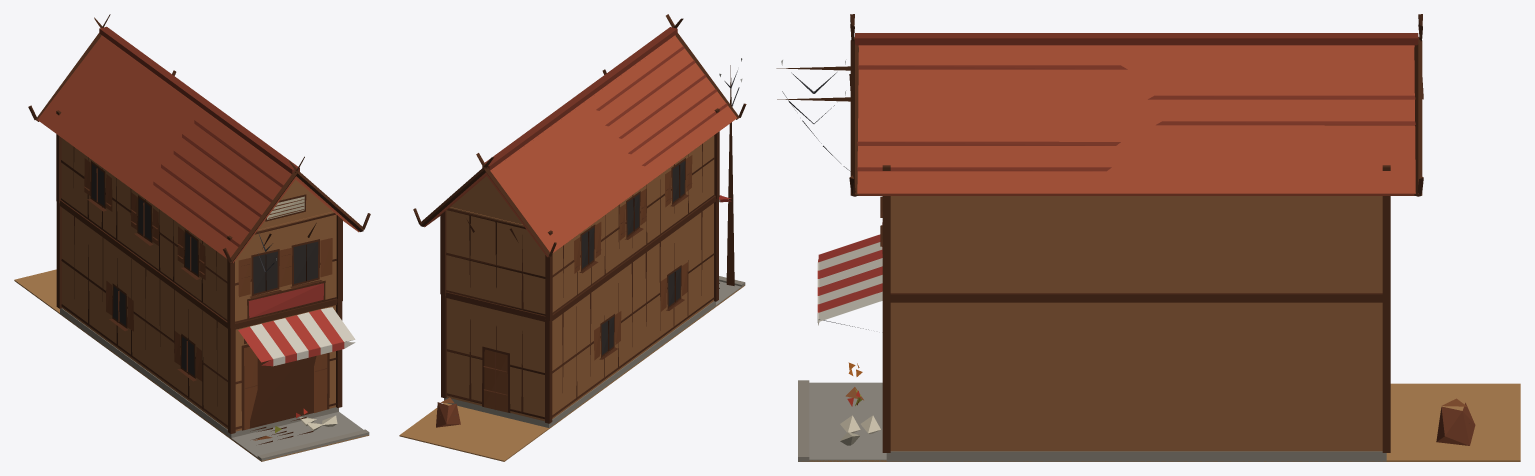
File: bay1_left.glb
3 views of the same model, side by side, from view 1: azimuth 30°, elevation 25°; view 2: azimuth 150°, elevation 25°; view 3: azimuth 270°, elevation 25° (orthographic). The views are drawn at different scales.
Visible parts, largest first — view 1: body, windows; view 2: body, windows; view 3: body.
Boxes of the visible parts, <box> form: body: <box>14,14,370,461</box>; windows: <box>91,164,318,375</box>; body: <box>399,14,746,461</box>; windows: <box>581,161,685,354</box>; body: <box>776,14,1520,461</box>.
Bounding box in the file's own units: 5.46 × 9.82 × 16.4.
